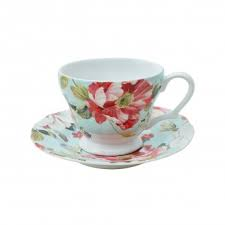cup: (26, 52, 200, 173)
